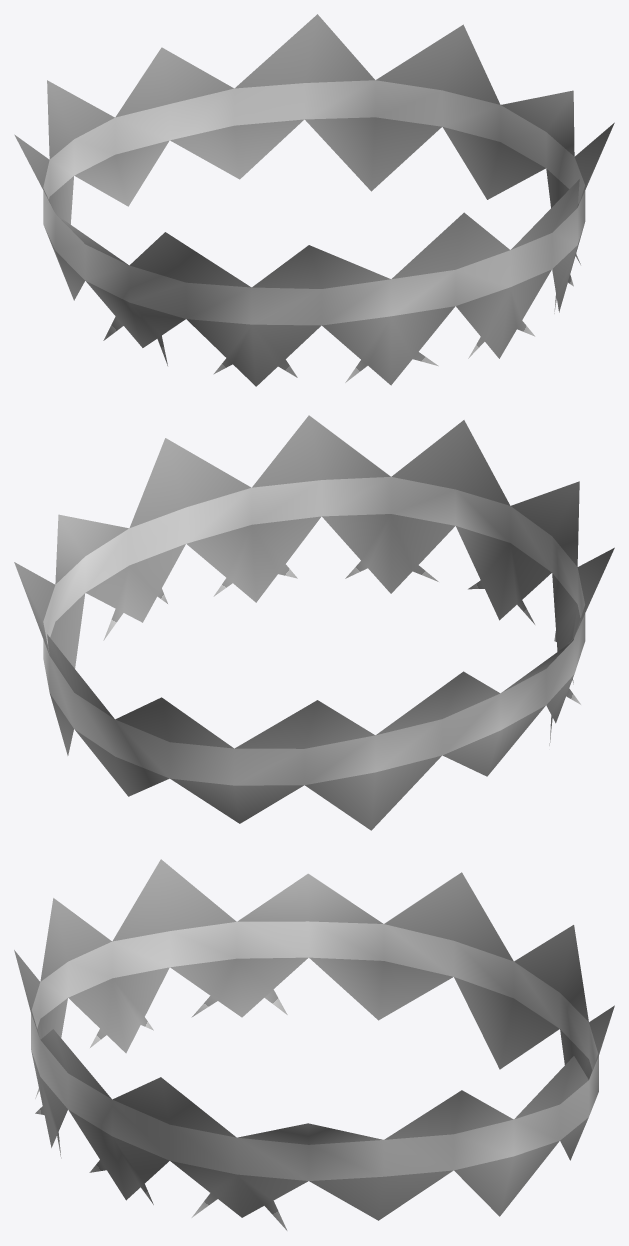
File: tortureCrown.glb
3 views of the same model, one above another, from view 1: azimuth 30°, elevation 25°; view 2: azimuth 150°, elevation 25°; view 3: azimuth 270°, elevation 25° (orthographic).
Visible parts, largest first — view 1: TortureCrown; view 2: TortureCrown; view 3: TortureCrown.
Part boxes in pixels (bbox=[...]): TortureCrown: bbox=[14, 14, 614, 386]; TortureCrown: bbox=[14, 415, 614, 830]; TortureCrown: bbox=[14, 859, 614, 1230].
Size of the model in its own units: 10.16 by 3.68 by 10.33.
Materials: 1 (1 with a texture image).
